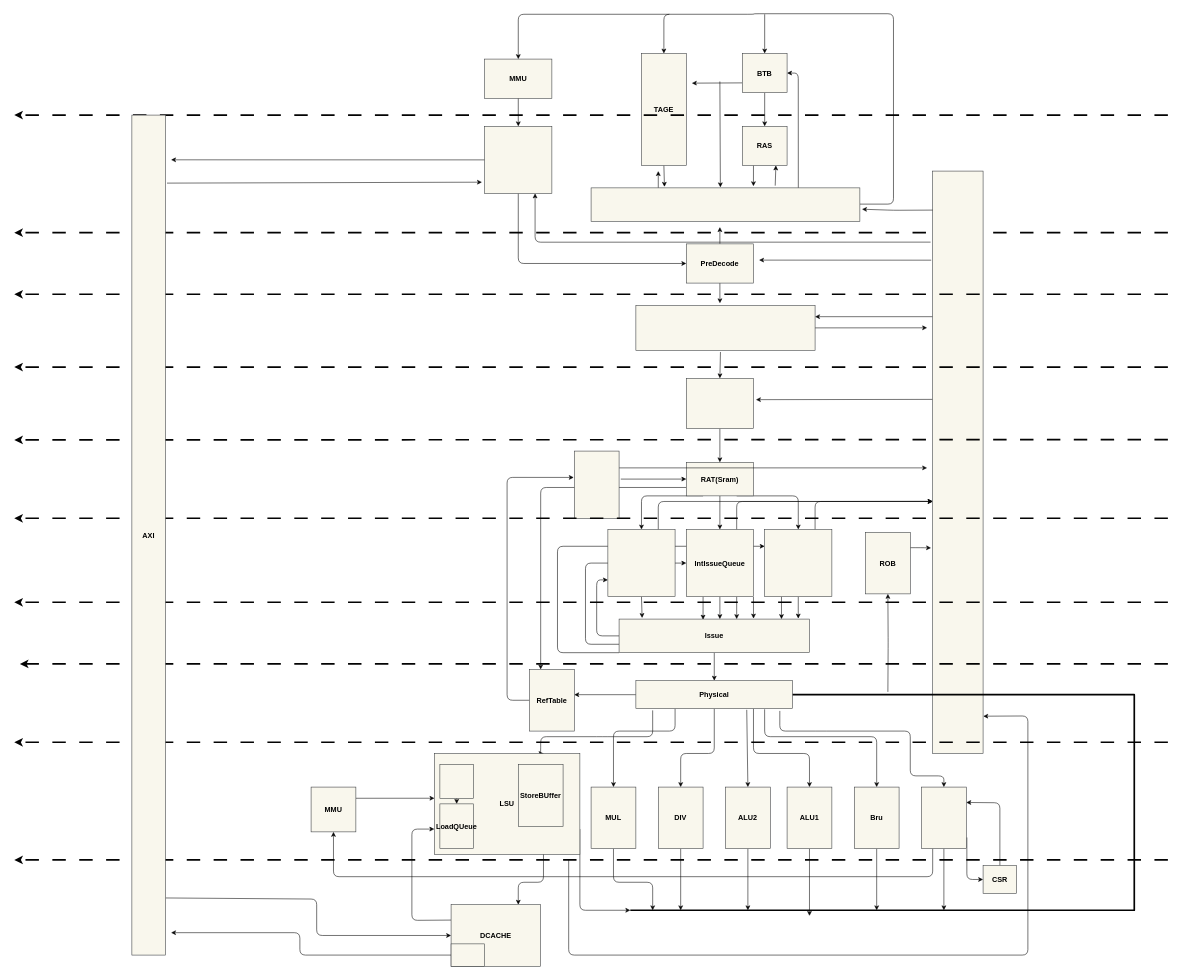
Image size: 1183x976. Some labels were removed from this diagram. Here are the shapes that lost their labels. From the top down, the centre of each, then its label:
At (518,159): "ICACHE".
At (725,204): "FTQ".
At (725,327): "InstQUeue".
At (719,403): "Decode(4Way)".
At (957,462): "Ctrl".
At (596,484): "Freelist".
At (641,563): "MemIssueQueue".
At (798,563): "CsrBrIssueQueue".
At (456,781): "Loadbuffer".
At (943,818): "CSRU".
At (468,954): "WriteBUffer".
